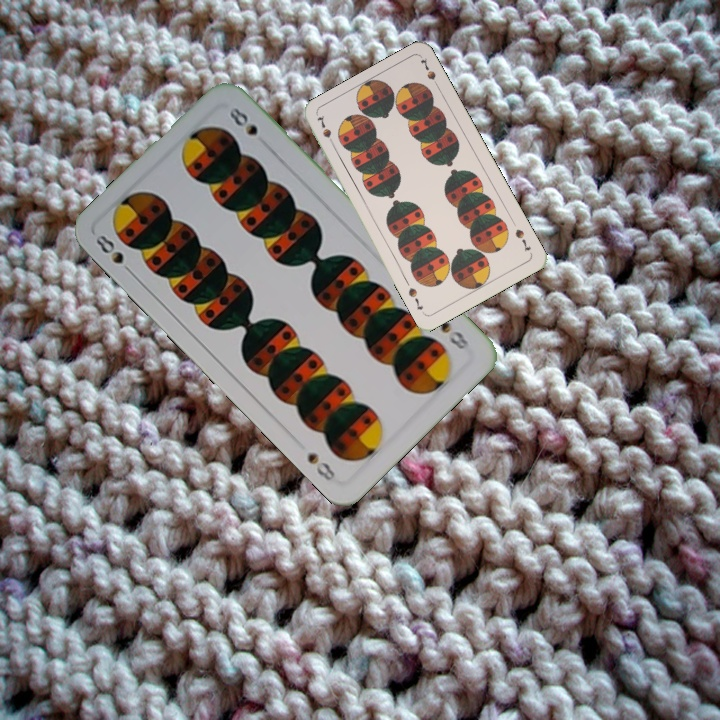S7: (313, 111, 338, 150), (511, 225, 533, 254)
S8: (91, 231, 137, 279), (436, 317, 472, 353)
